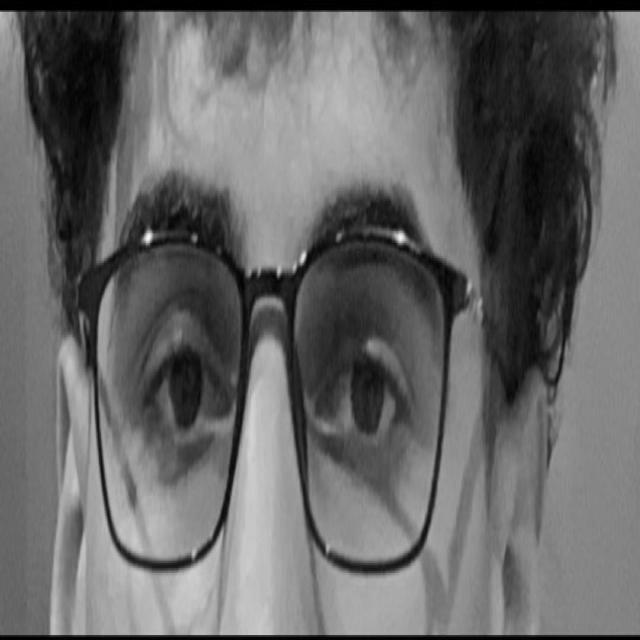real: (104, 220, 448, 527)
